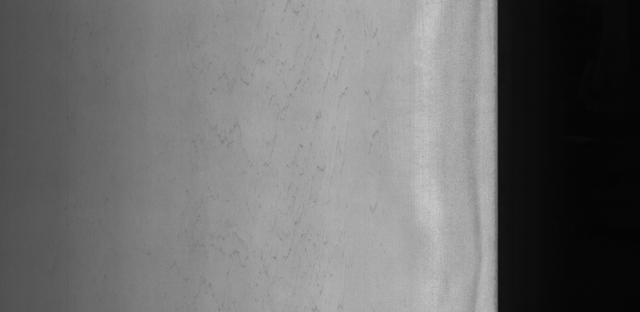silk_spot: (194, 34, 366, 280)
